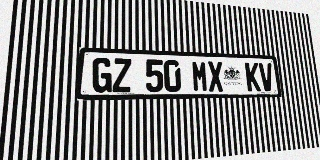0: (163, 60, 181, 92)
5: (146, 59, 164, 92)
G: (92, 57, 112, 93)
K: (245, 62, 261, 91)
M: (191, 61, 208, 92)
V: (258, 63, 274, 91)
X: (207, 61, 224, 92)
Z: (112, 58, 131, 92)
